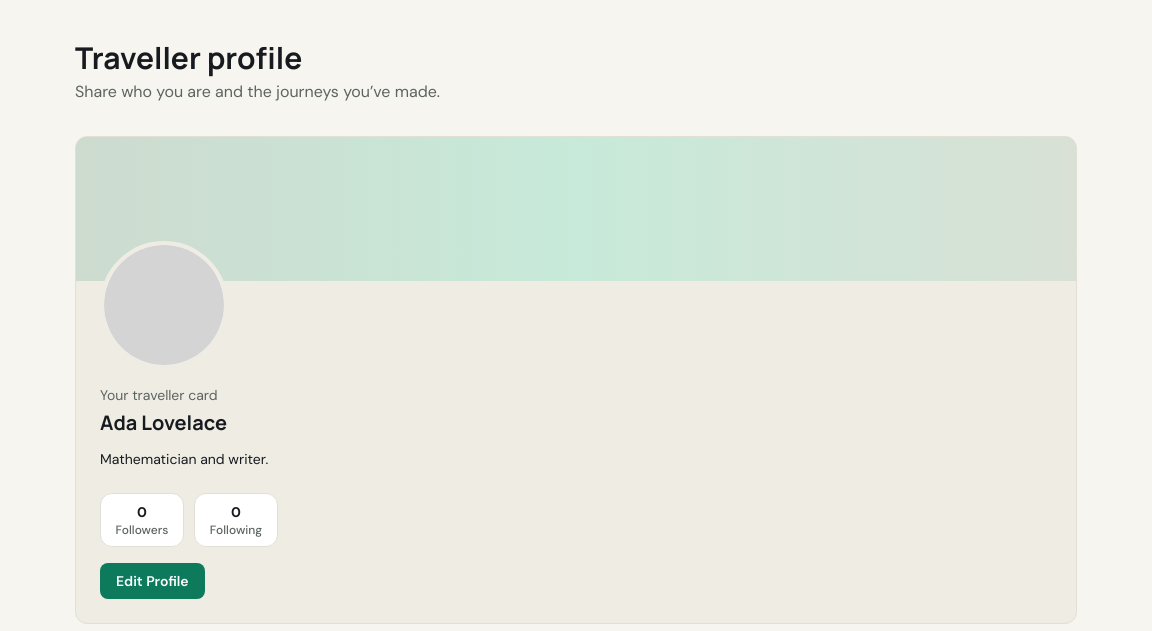
Scenario: Profile page rendering › pre-fills form with profile data
Click the button "Edit Profile". click: (152, 581)
box: [100, 563, 205, 599]
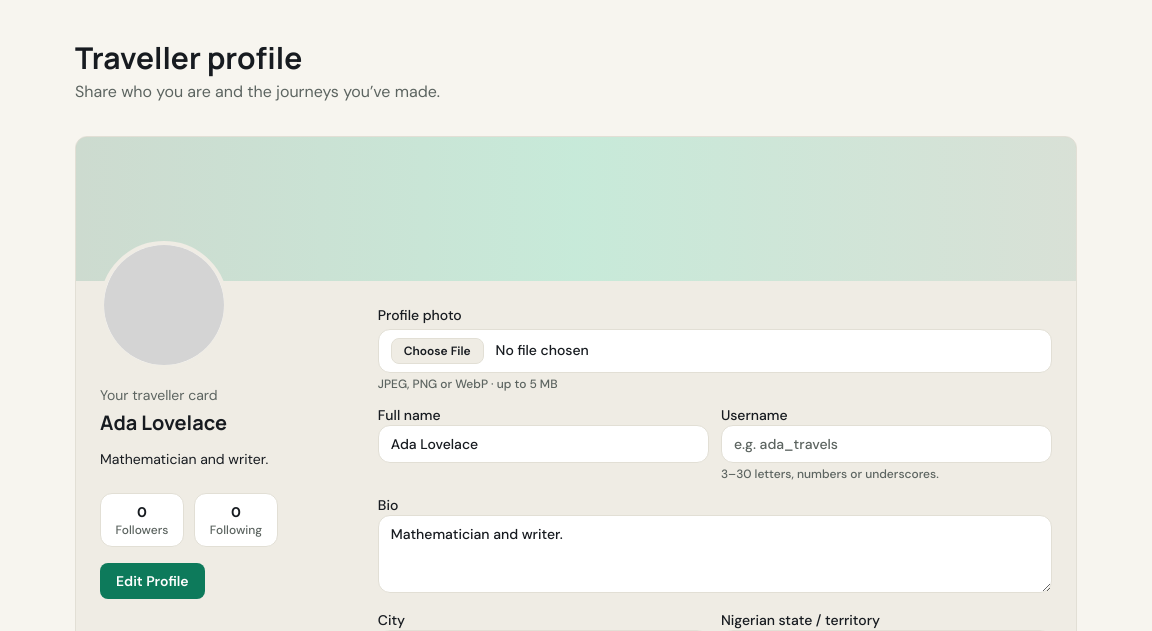
Expected: the field labelled "Full name" holds "Ada Lovelace", [378, 425, 709, 463]
Expected: the text box labelled "Bio" holds "Mathematician and writer.", [378, 515, 1052, 593]
Expected: the file field named "Upload profile photo" is shown, [378, 329, 1052, 373]
